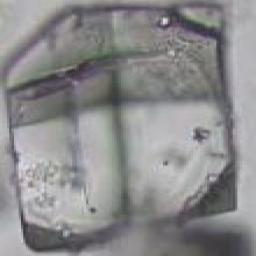crystals: (5, 4, 247, 255)
